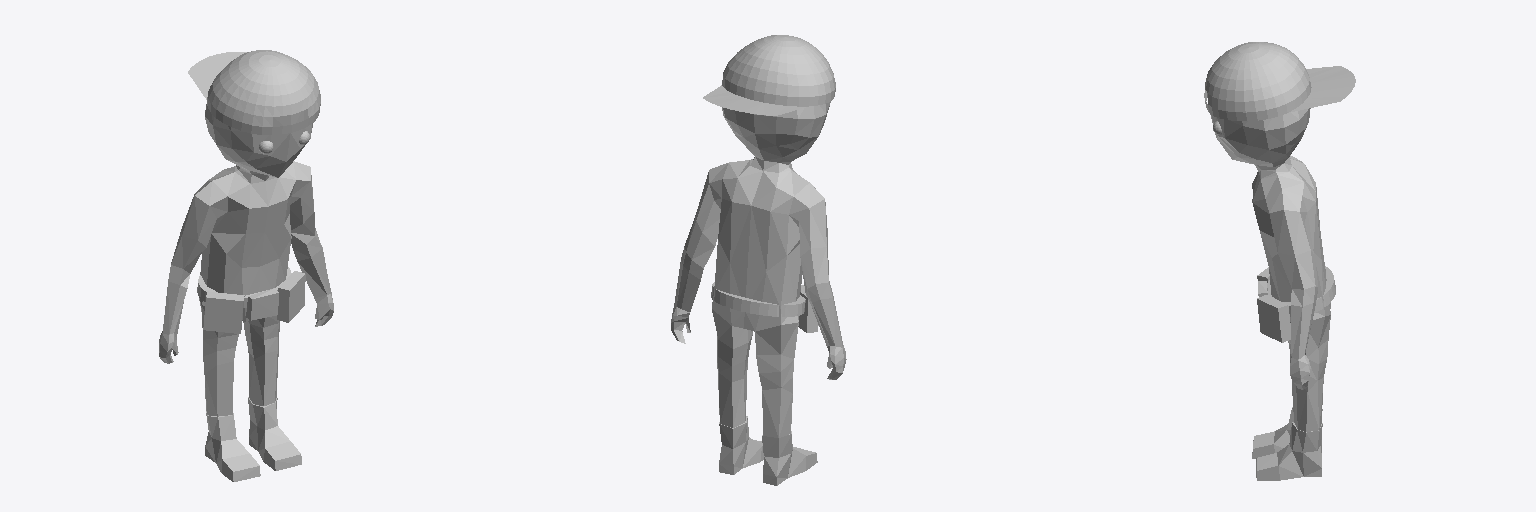
File: Main_Character_Repair_15.obj
The picture shows the model from 3 angles: view 1: azimuth 30°, elevation 25°; view 2: azimuth 150°, elevation 25°; view 3: azimuth 270°, elevation 25°; orthographic projection.
Parts seen in each view (by area): view 1: Main_Character_Test.003_Main_Character_Test.004; view 2: Main_Character_Test.003_Main_Character_Test.004; view 3: Main_Character_Test.003_Main_Character_Test.004.
Part boxes in pixels (left/top/right/bottom): Main_Character_Test.003_Main_Character_Test.004: left=159, top=50, right=333, bottom=481; Main_Character_Test.003_Main_Character_Test.004: left=671, top=35, right=846, bottom=485; Main_Character_Test.003_Main_Character_Test.004: left=1204, top=42, right=1355, bottom=480.
Size of the model in its own units: 1.7 by 3.95 by 1.3.